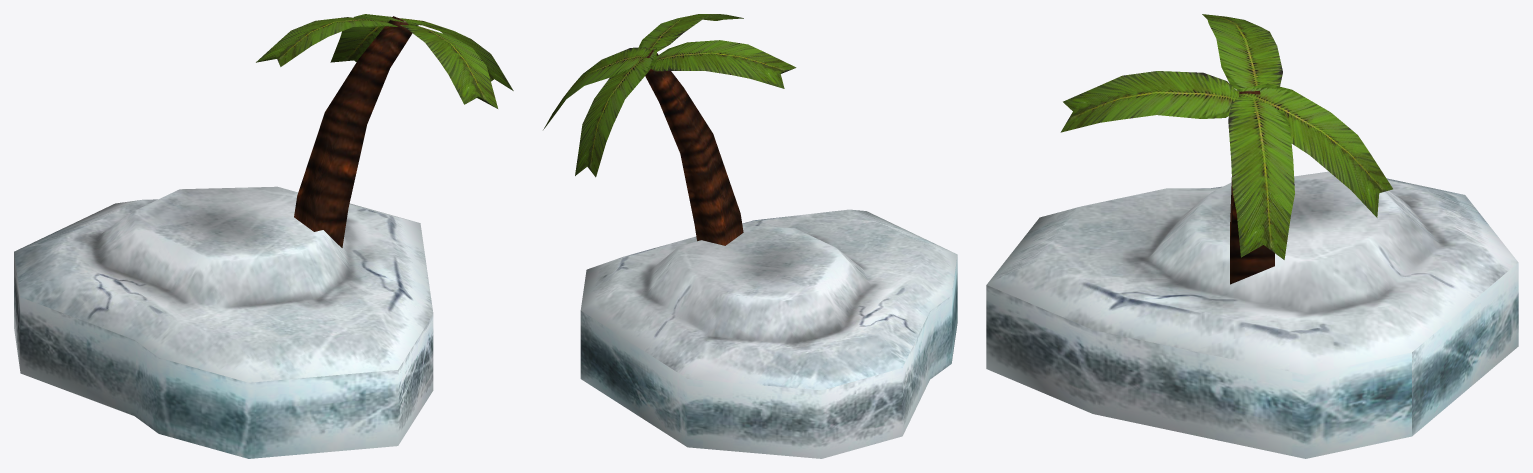
Rendered from iceberg_center.fbx.
3 views of the same model, side by side, from view 1: azimuth 30°, elevation 25°; view 2: azimuth 150°, elevation 25°; view 3: azimuth 270°, elevation 25° (orthographic). The views are drawn at different scales.
Parts seen in each view (by area): view 1: polySurface1; view 2: polySurface1; view 3: polySurface1.
Boxes of the visible parts, x1,y1,x2,y2 form: polySurface1: (14, 14, 513, 458); polySurface1: (543, 14, 957, 458); polySurface1: (986, 14, 1518, 458).
Size of the model in its own units: 10.53 by 7.51 by 10.
